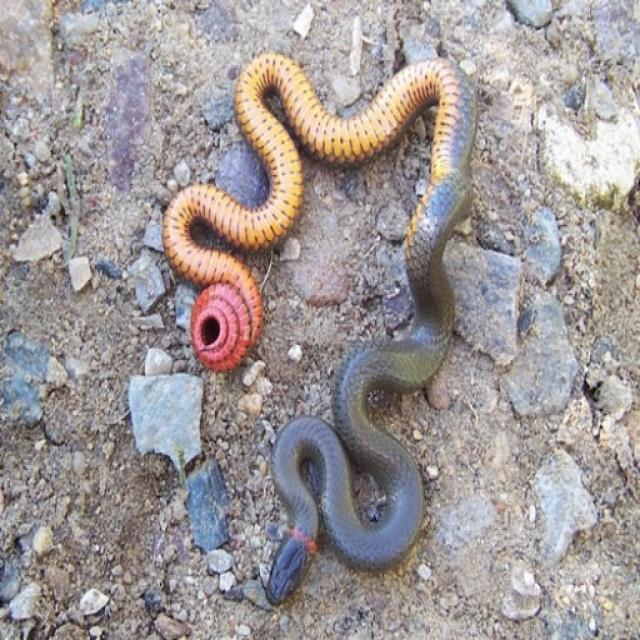snake: (145, 39, 496, 616)
